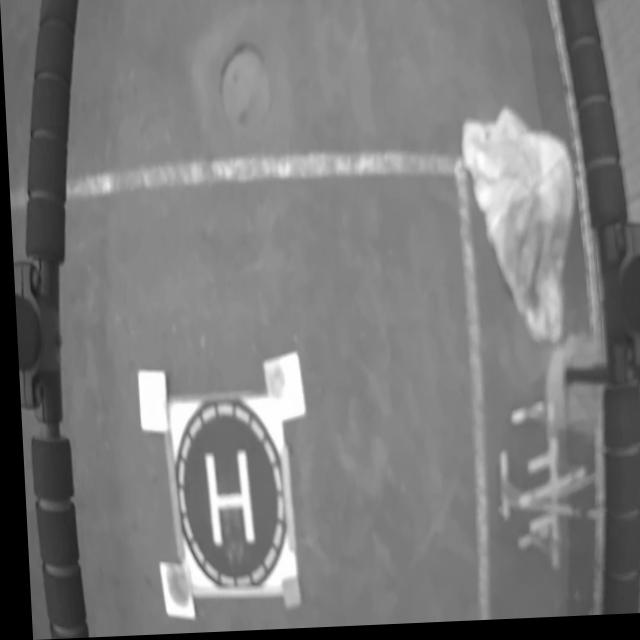Helipad: (202, 451, 250, 550)
